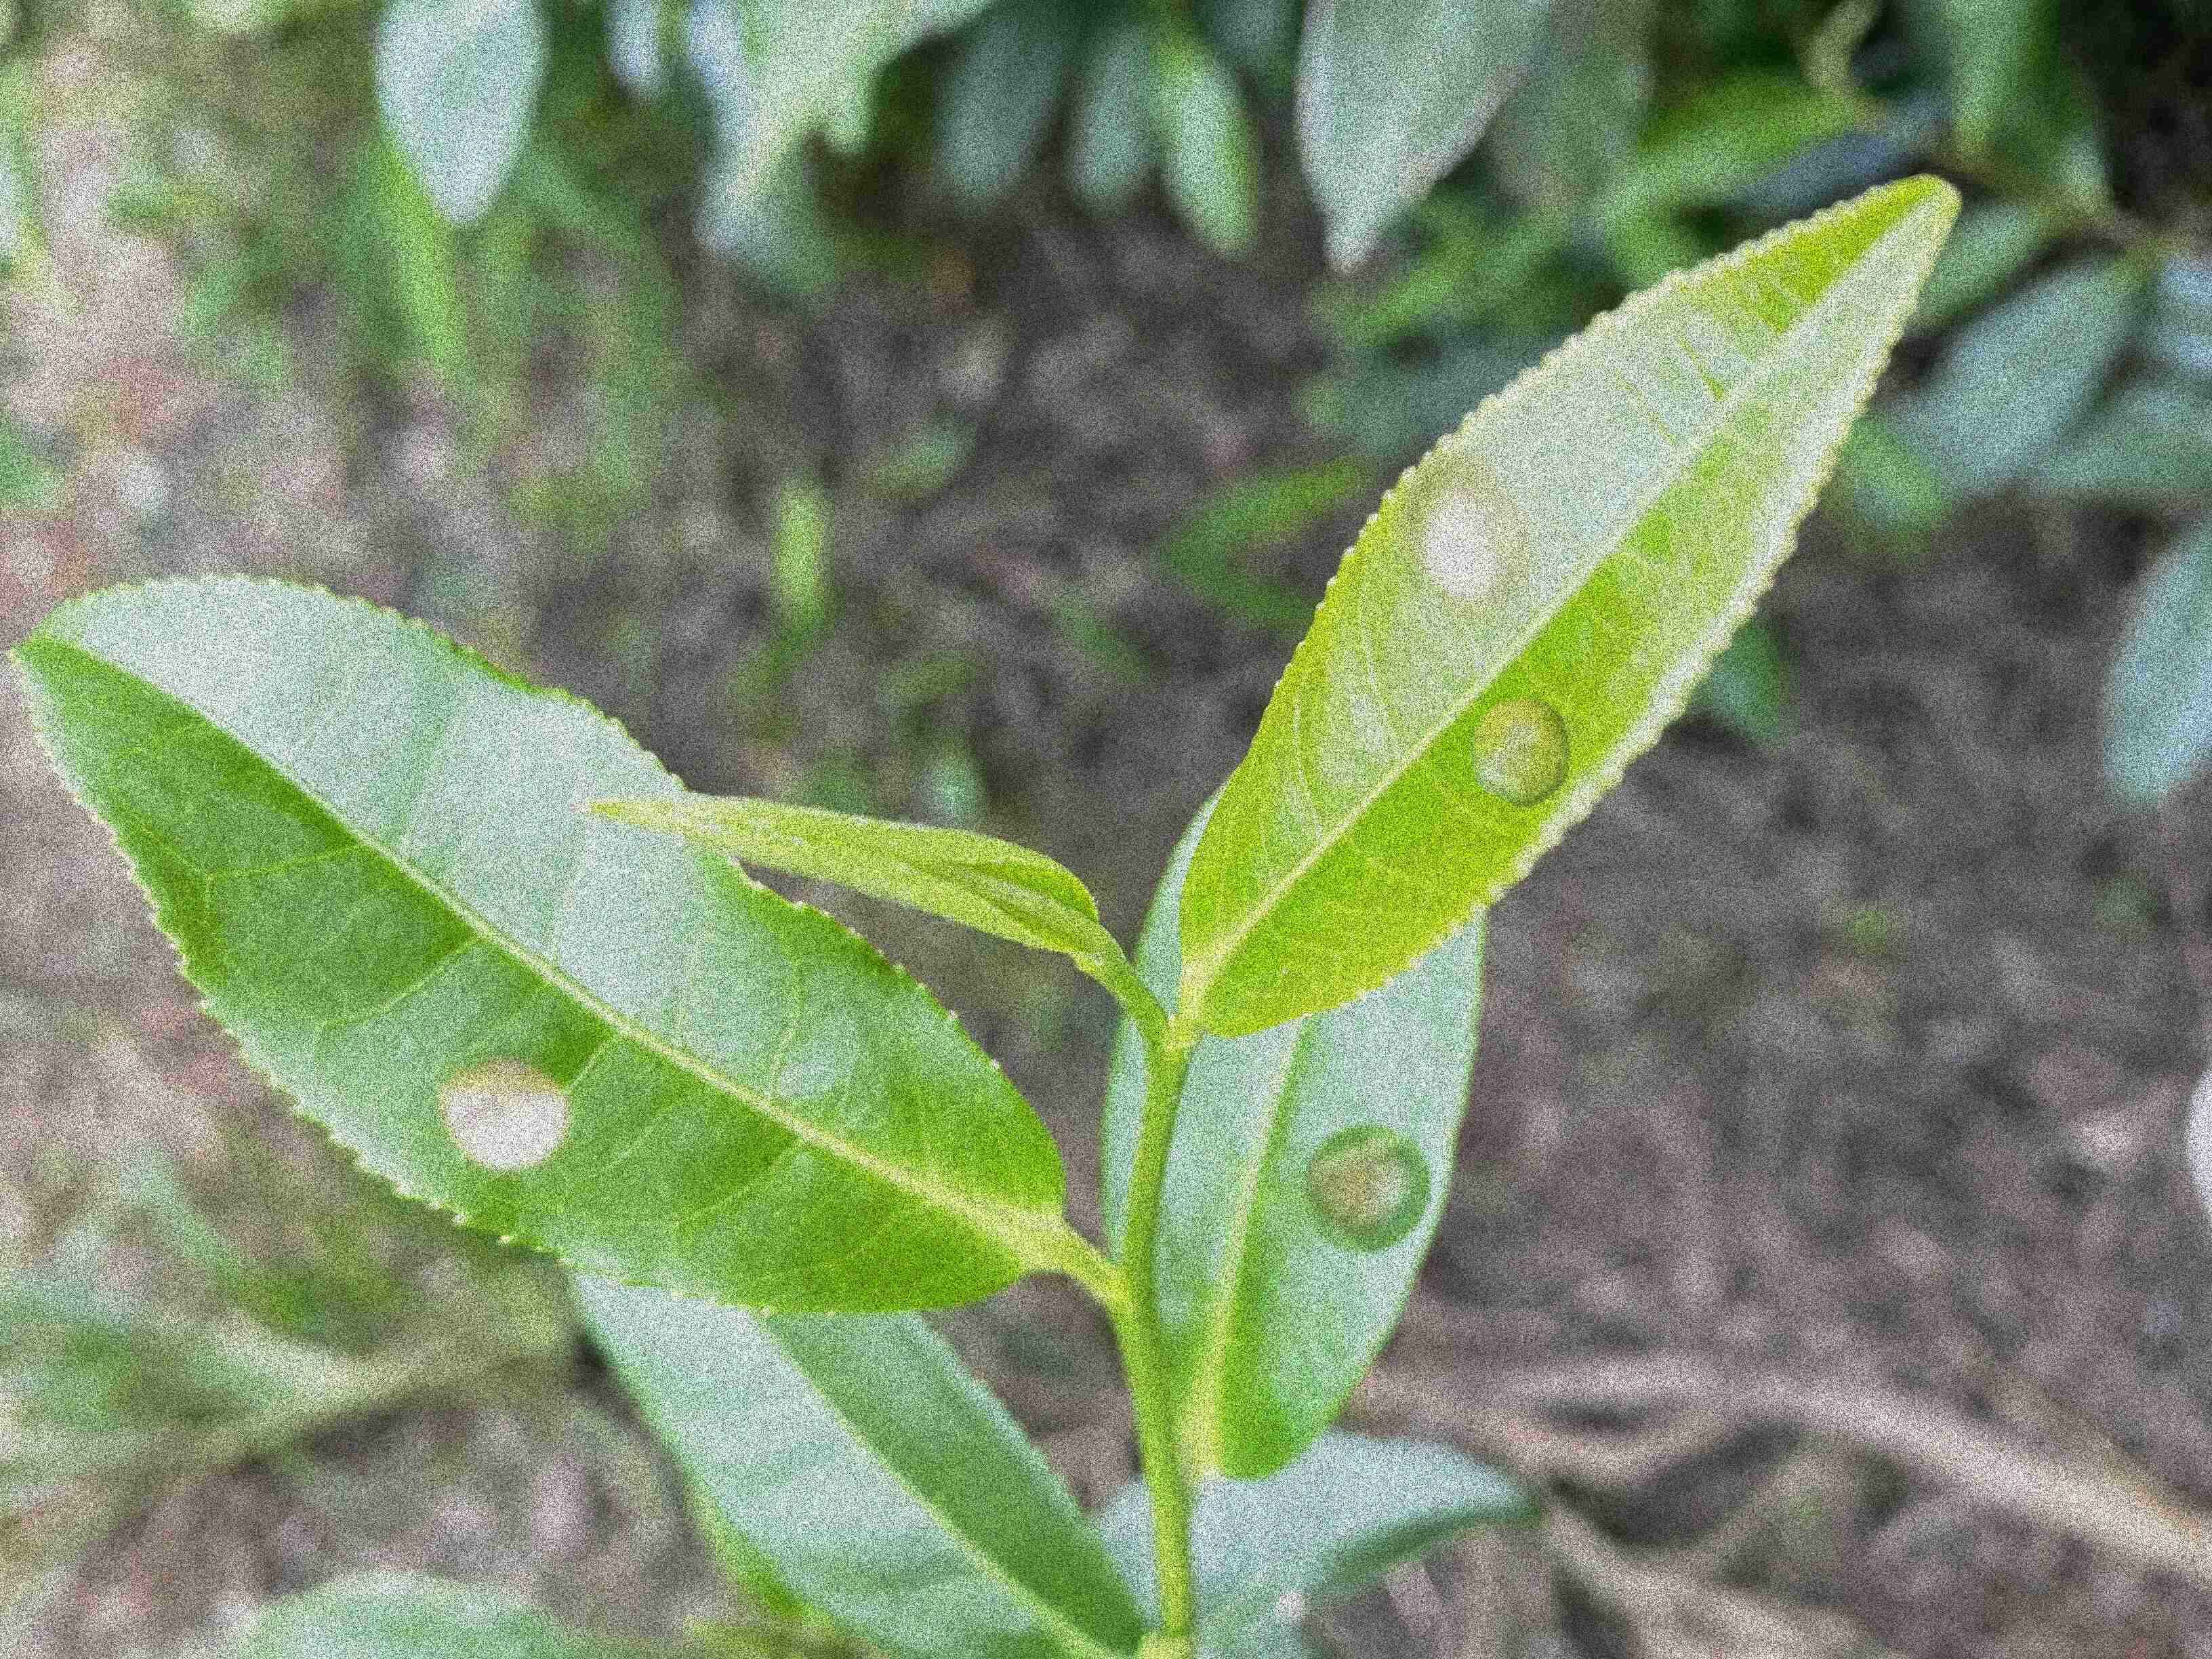chabing_high: (1176, 174, 1961, 1039)
chabing_low: (9, 573, 1073, 1312), (1097, 786, 1486, 1483)
